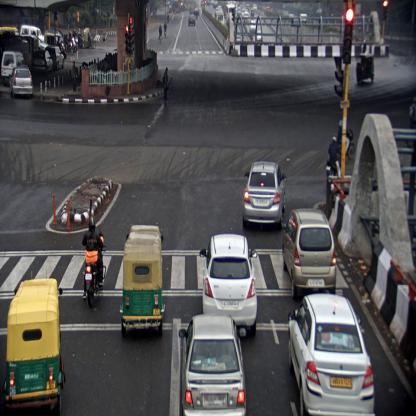car: (290, 294, 373, 416), (179, 314, 247, 416), (199, 233, 258, 341), (282, 209, 336, 296), (242, 160, 285, 229), (9, 67, 33, 100), (2, 51, 24, 81), (189, 13, 195, 27)
motorcycle: (81, 217, 105, 310), (326, 136, 340, 180)
